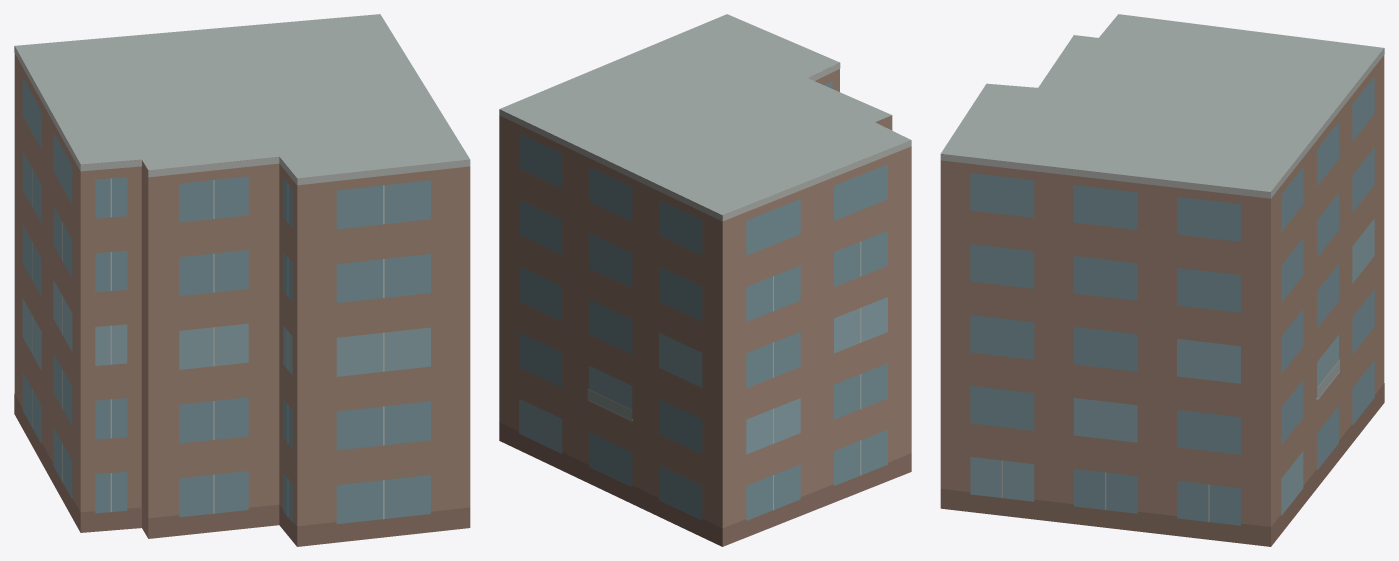
The model's file is survey-upis-32966907.glb.
The picture shows the model from 3 angles, left to right: view 1: azimuth 30°, elevation 25°; view 2: azimuth 150°, elevation 25°; view 3: azimuth 270°, elevation 25°; orthographic projection. The views are drawn at different scales.
Visible parts, largest first — view 1: survey-upis-32966907.tmp; view 2: survey-upis-32966907.tmp; view 3: survey-upis-32966907.tmp.
Part boxes in pixels (left/top/right/bottom): survey-upis-32966907.tmp: left=14, top=14, right=470, bottom=546; survey-upis-32966907.tmp: left=499, top=14, right=911, bottom=546; survey-upis-32966907.tmp: left=940, top=14, right=1384, bottom=546.
Bounding box in the file's own units: 14 × 13 × 14.75.
